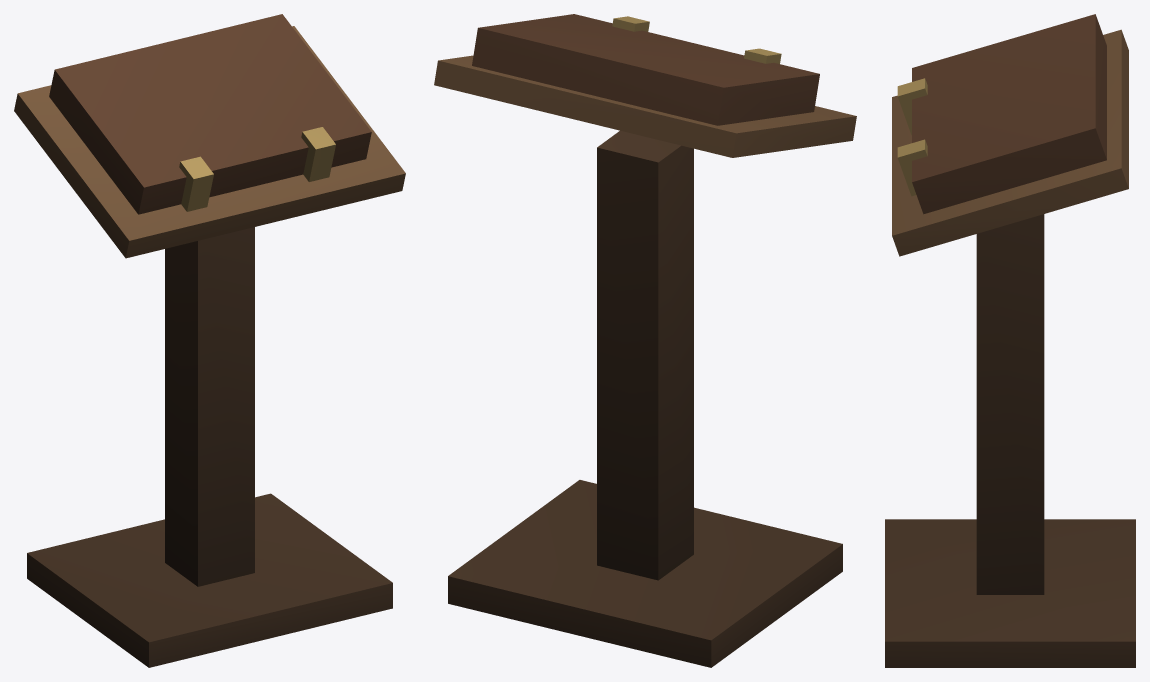
File: ph_int_office_lectern.glb
3 views of the same model, side by side, from view 1: azimuth 30°, elevation 25°; view 2: azimuth 150°, elevation 25°; view 3: azimuth 270°, elevation 25° (orthographic). The views are drawn at different scales.
Parts seen in each view (by area): view 1: ph_int_office_lectern; view 2: ph_int_office_lectern; view 3: ph_int_office_lectern.
Boxes of the visible parts, bbox=[...] form: ph_int_office_lectern: bbox=[14, 14, 405, 667]; ph_int_office_lectern: bbox=[434, 14, 856, 667]; ph_int_office_lectern: bbox=[885, 14, 1135, 667].
Bounding box in the file's own units: 0.68 × 1.22 × 0.52.
